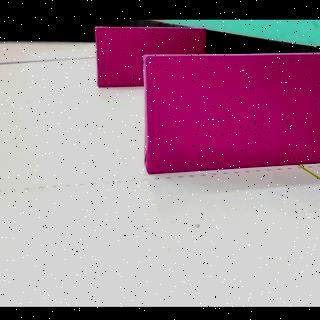xparking: (148, 54, 320, 174), (97, 27, 144, 86)
